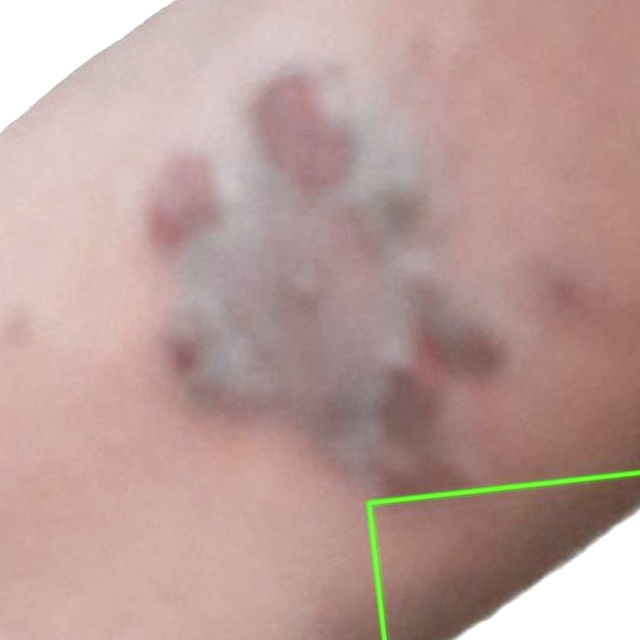Eczema: (369, 472, 639, 639)
